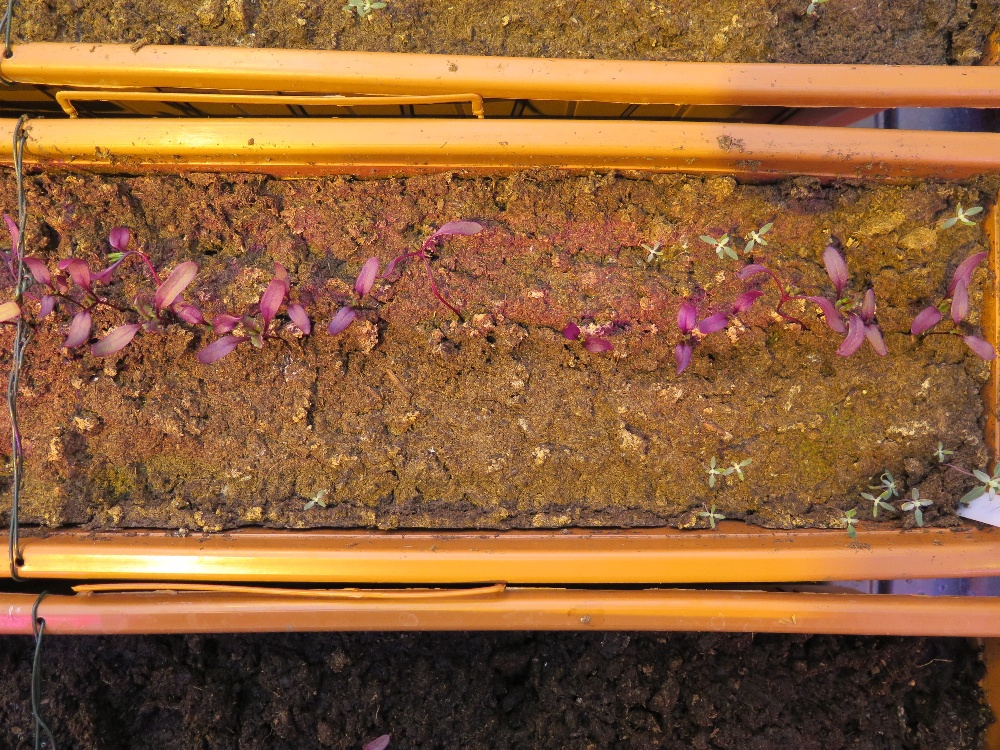crop: (88, 262, 199, 369), (389, 210, 482, 325), (188, 280, 280, 371), (911, 246, 987, 352), (746, 264, 846, 341), (325, 249, 383, 347), (822, 237, 863, 368), (269, 251, 316, 353), (949, 282, 993, 369), (5, 210, 36, 333), (58, 247, 94, 348), (699, 283, 762, 336), (559, 305, 617, 360), (28, 250, 63, 325), (862, 283, 890, 372), (109, 220, 140, 288), (680, 292, 703, 381), (173, 312, 240, 332)
weed: (937, 199, 983, 231), (899, 487, 933, 527), (697, 231, 737, 262), (744, 220, 773, 254), (697, 501, 726, 530), (836, 505, 860, 539), (302, 487, 328, 513), (640, 240, 665, 265), (932, 439, 954, 465)
